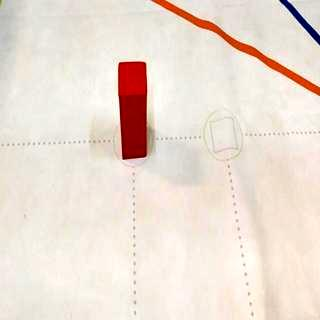redbox: (118, 61, 146, 159)
